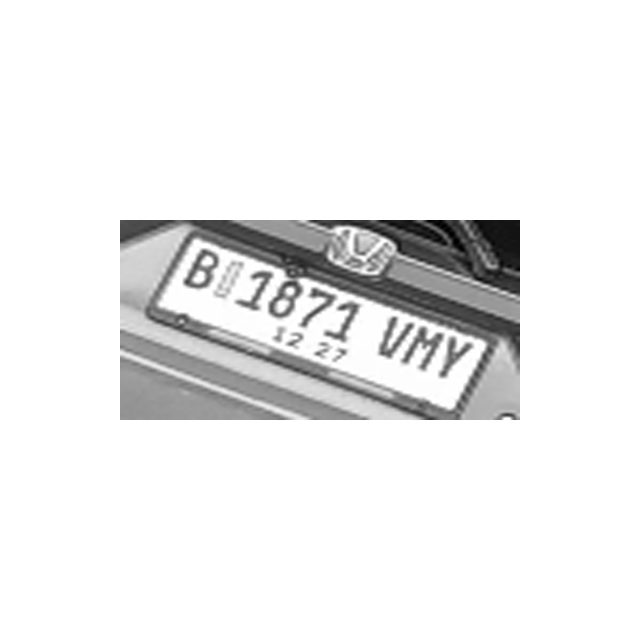contain: (399, 325, 446, 375), (373, 308, 415, 360), (234, 263, 275, 316), (298, 286, 341, 332), (322, 295, 364, 342), (440, 332, 479, 381), (267, 275, 306, 323), (180, 246, 220, 292)
